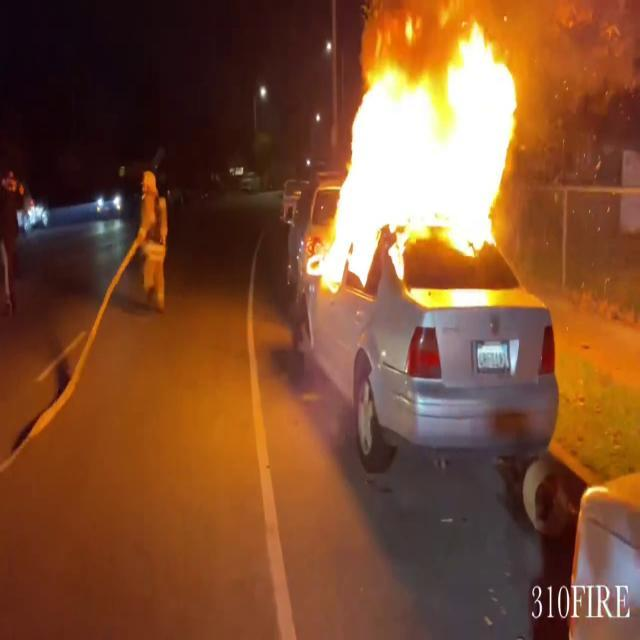Fire: (306, 3, 530, 289)
